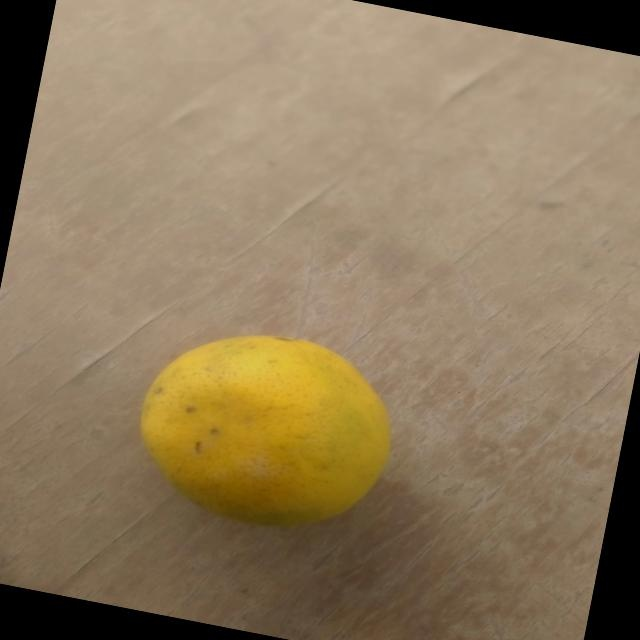agrume: (108, 305, 428, 567)
